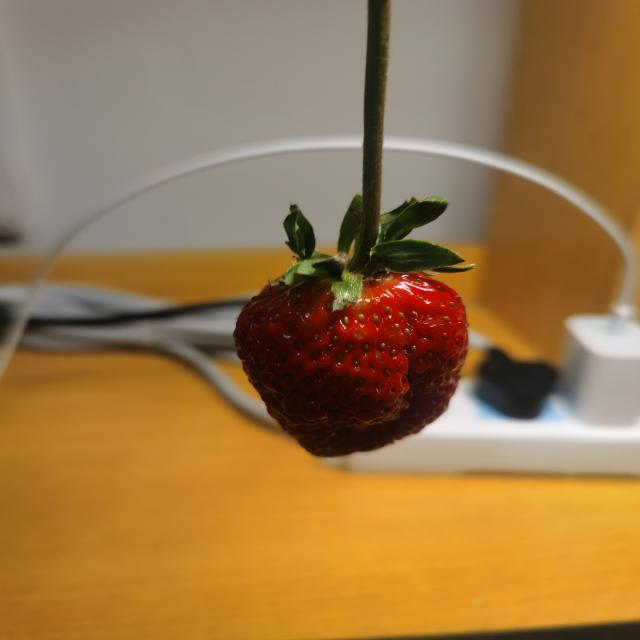stem: (343, 150, 382, 278)
strawberry: (233, 259, 469, 459)
